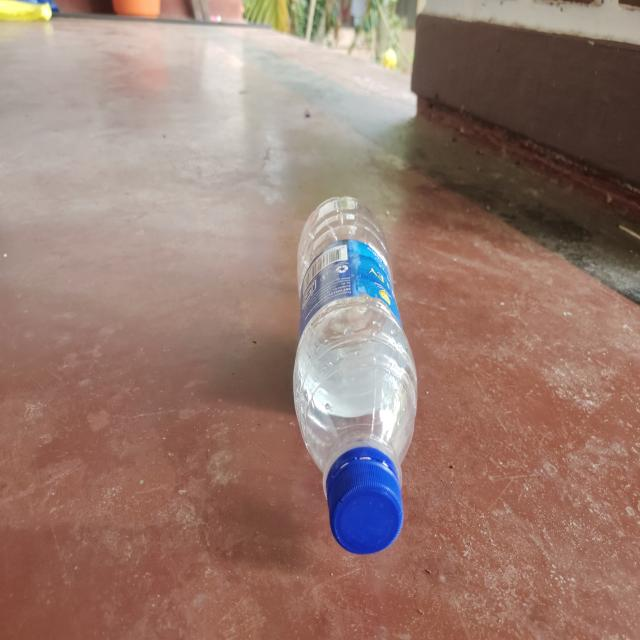plastic: (292, 194, 419, 556)
